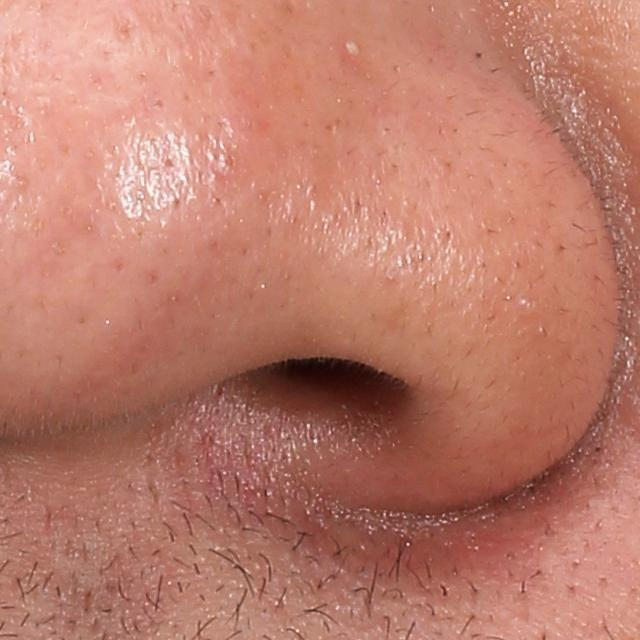pustule: (340, 34, 367, 62)
